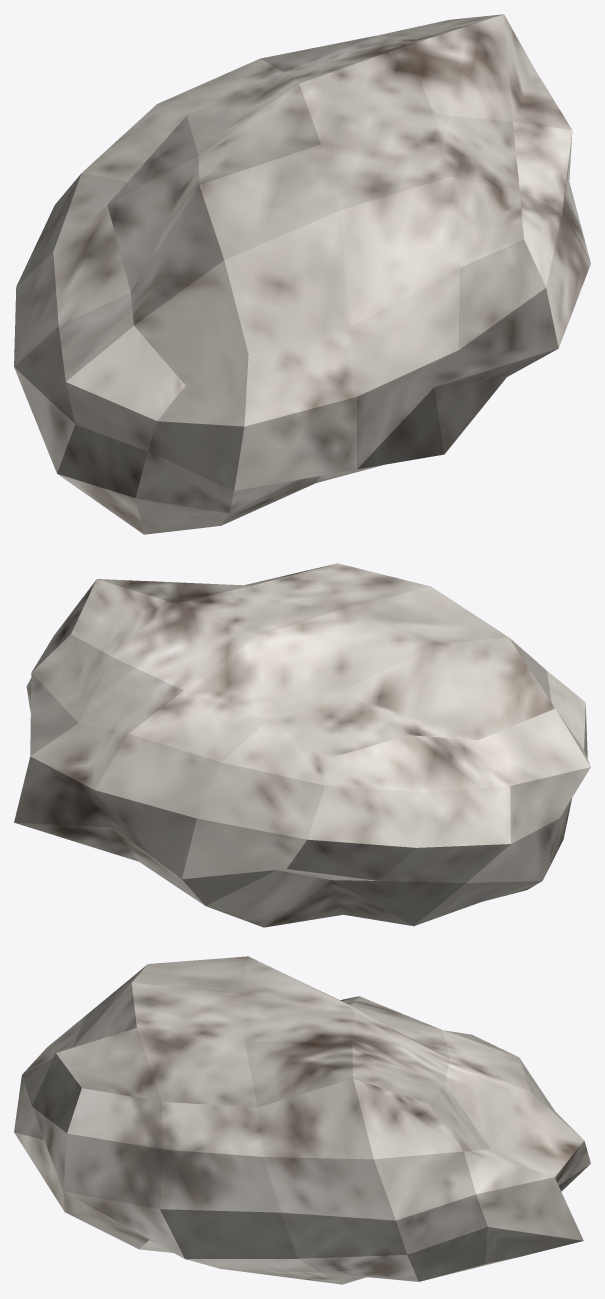
The model's file is Rock_bigflat.fbx.
3 renders of one model, top to bottom at view 1: azimuth 30°, elevation 25°; view 2: azimuth 150°, elevation 25°; view 3: azimuth 270°, elevation 25°, orthographic. The views are drawn at different scales.
Parts seen in each view (by area): view 1: Rock_bigflat; view 2: Rock_bigflat; view 3: Rock_bigflat.
Boxes of the visible parts, x1,y1,x2,y2 form: Rock_bigflat: [14, 14, 590, 534]; Rock_bigflat: [14, 563, 590, 927]; Rock_bigflat: [14, 956, 590, 1284].
Size of what is drawn, in the model's own units: 601 by 335 by 583.
